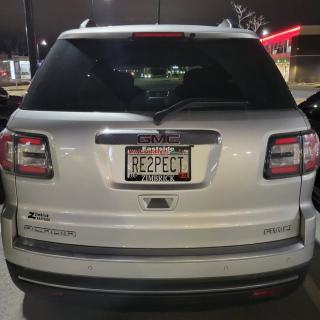license: (125, 147, 192, 183)
